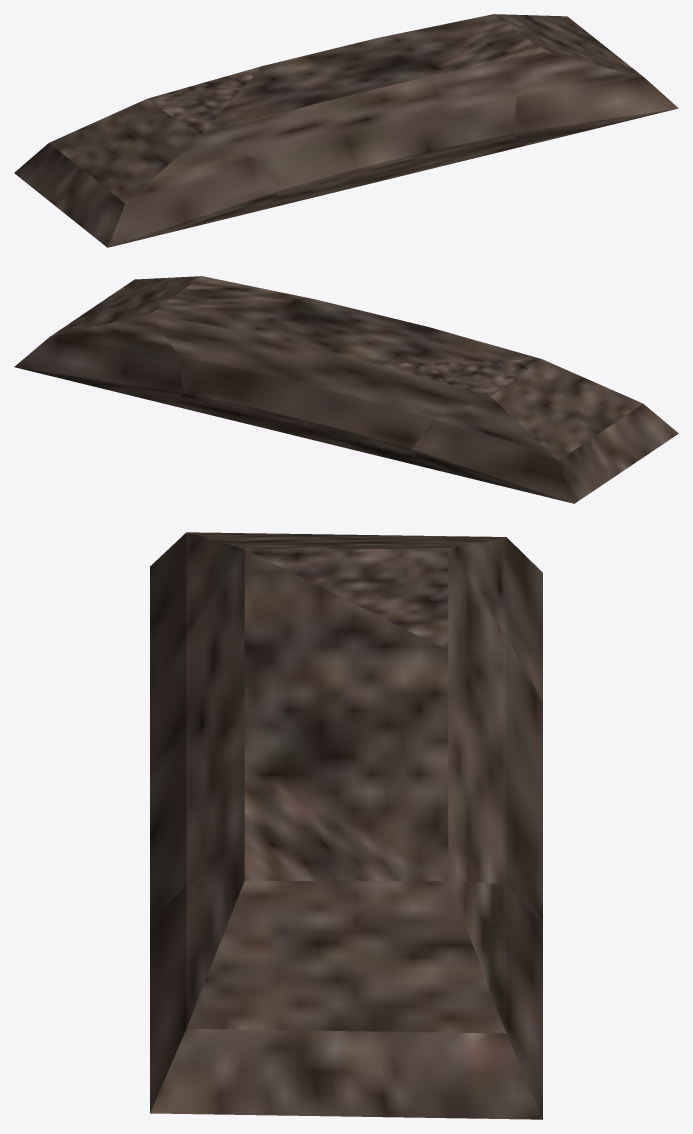
The model's file is grob.fbx.
3 renders of one model, top to bottom at view 1: azimuth 30°, elevation 25°; view 2: azimuth 150°, elevation 25°; view 3: azimuth 270°, elevation 25°, orthographic. The views are drawn at different scales.
Visible parts, largest first — view 1: Cube; view 2: Cube; view 3: Cube.
Part boxes in pixels (bbox=[...]): Cube: bbox=[14, 14, 678, 247]; Cube: bbox=[14, 276, 678, 503]; Cube: bbox=[150, 532, 542, 1119].
Bounding box in the file's own units: 400 × 46.18 × 120.
Materials: 1 (1 with a texture image).
